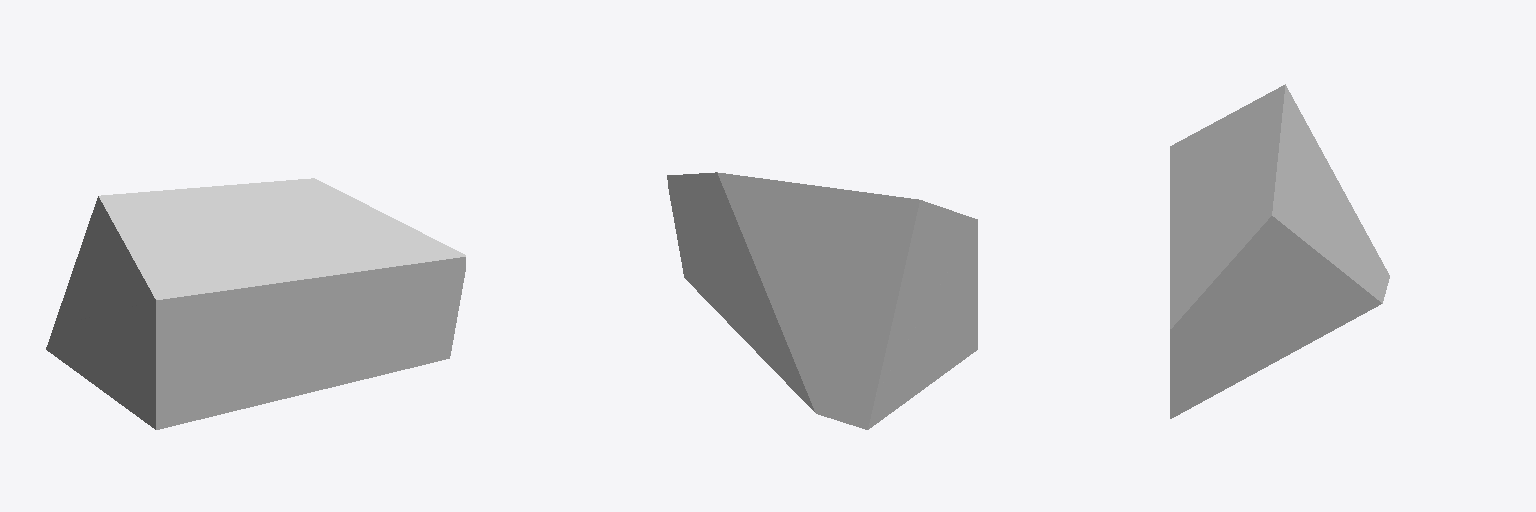
Rendered from CubeShatter04.obj.
3 views of the same model, side by side, from view 1: azimuth 30°, elevation 25°; view 2: azimuth 150°, elevation 25°; view 3: azimuth 270°, elevation 25° (orthographic).
Visible parts, largest first — view 1: CubeShatter04; view 2: CubeShatter04; view 3: CubeShatter04.
Boxes of the visible parts, box(x1,y1,x2,y2) form: CubeShatter04: box(46, 178, 465, 429); CubeShatter04: box(667, 172, 977, 429); CubeShatter04: box(1170, 84, 1389, 418).
Size of the model in its own units: 2 by 1.18 by 1.23.